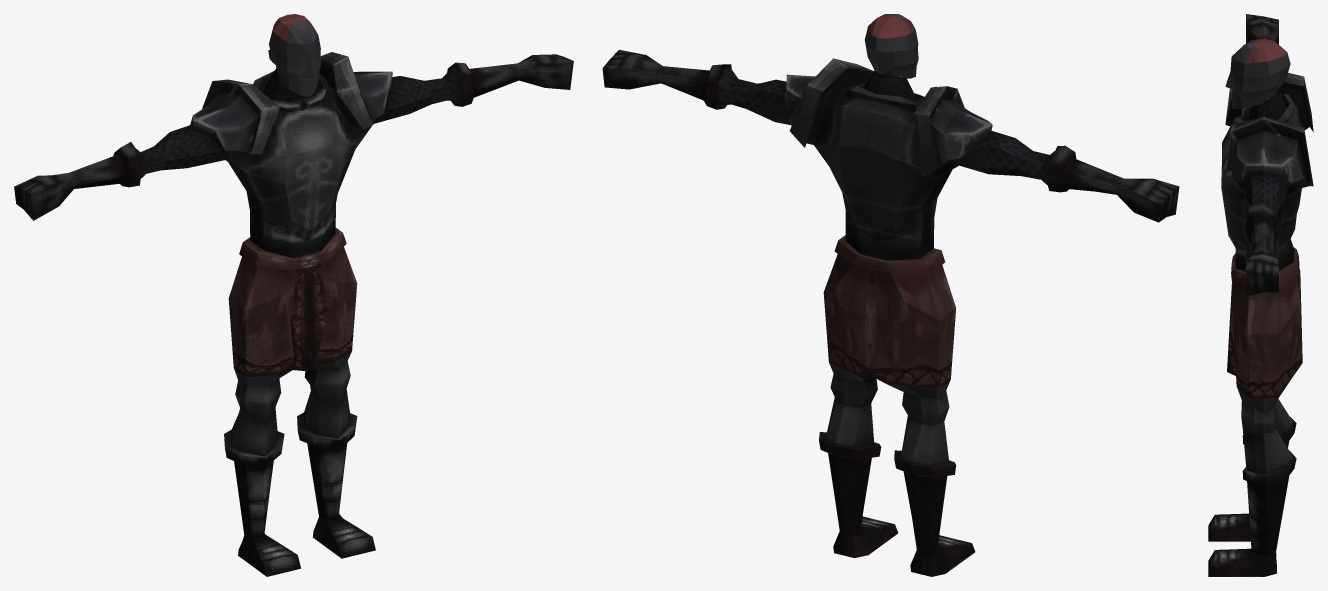
The model's file is npc_inquisitor.glb.
3 renders of one model, left to right at view 1: azimuth 30°, elevation 25°; view 2: azimuth 150°, elevation 25°; view 3: azimuth 270°, elevation 25°, orthographic. The views are drawn at different scales.
Parts seen in each view (by area): view 1: npc_inquisitor; view 2: npc_inquisitor; view 3: npc_inquisitor.
Boxes of the visible parts, <box> form: npc_inquisitor: <box>14,14,573,576</box>; npc_inquisitor: <box>602,14,1179,576</box>; npc_inquisitor: <box>1208,14,1313,576</box>.
Size of the model in its own units: 2.87 by 2.65 by 0.4966.
Materials: 2 (2 with a texture image).
